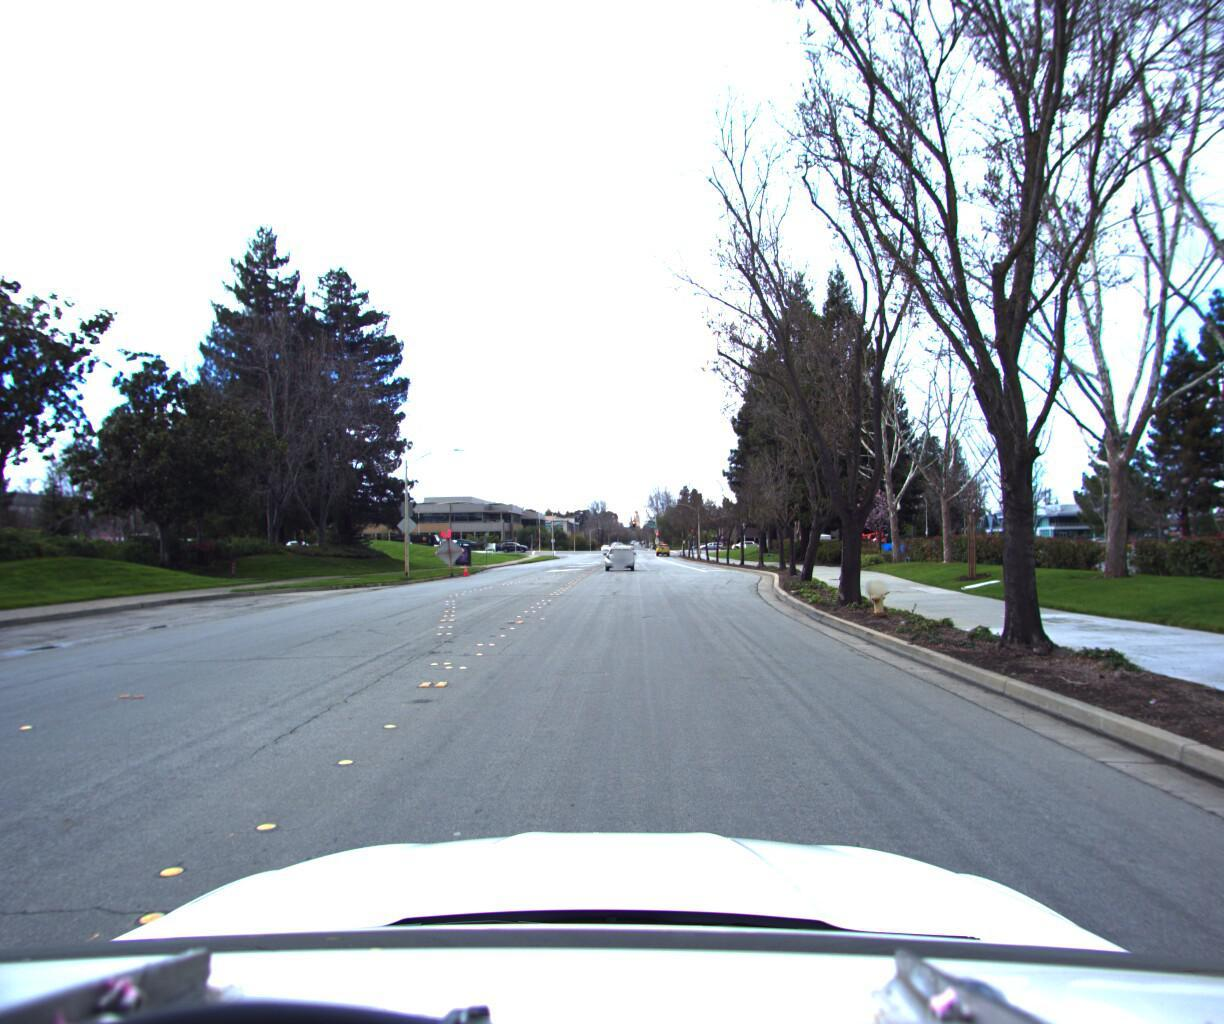car: (601, 538, 635, 567)
